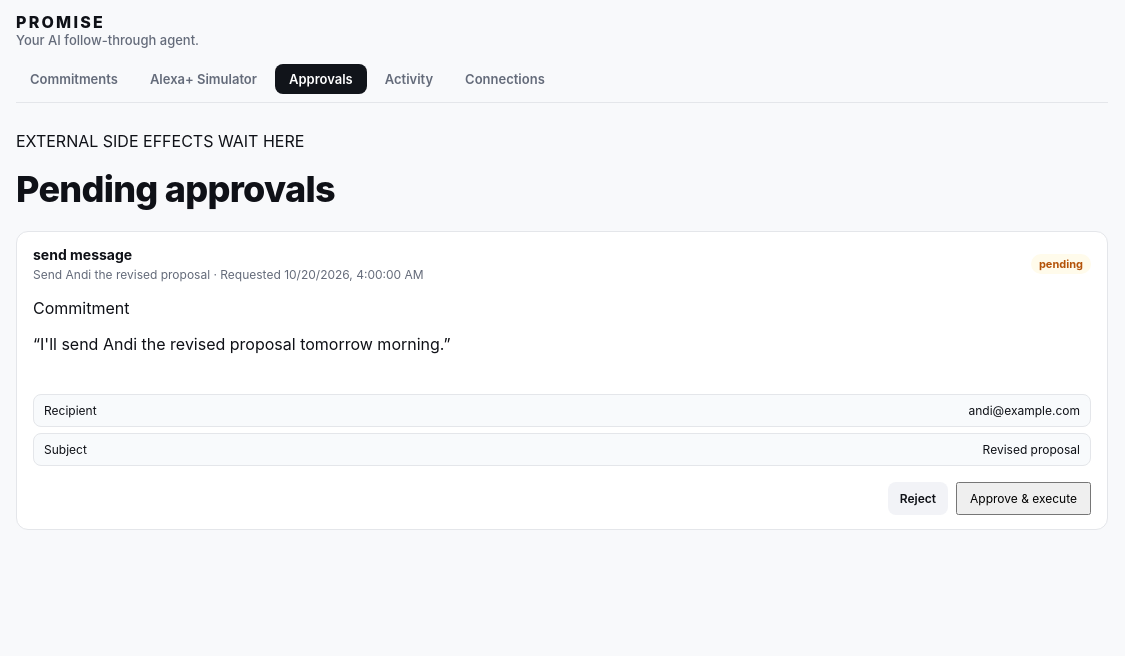
ApprovalsPage – conflict (HTTP 409) › shows conflict notice when decideApproval returns a 409 error
Click the button with test id "btn-approve": [1024, 498] box [956,482,1091,515]
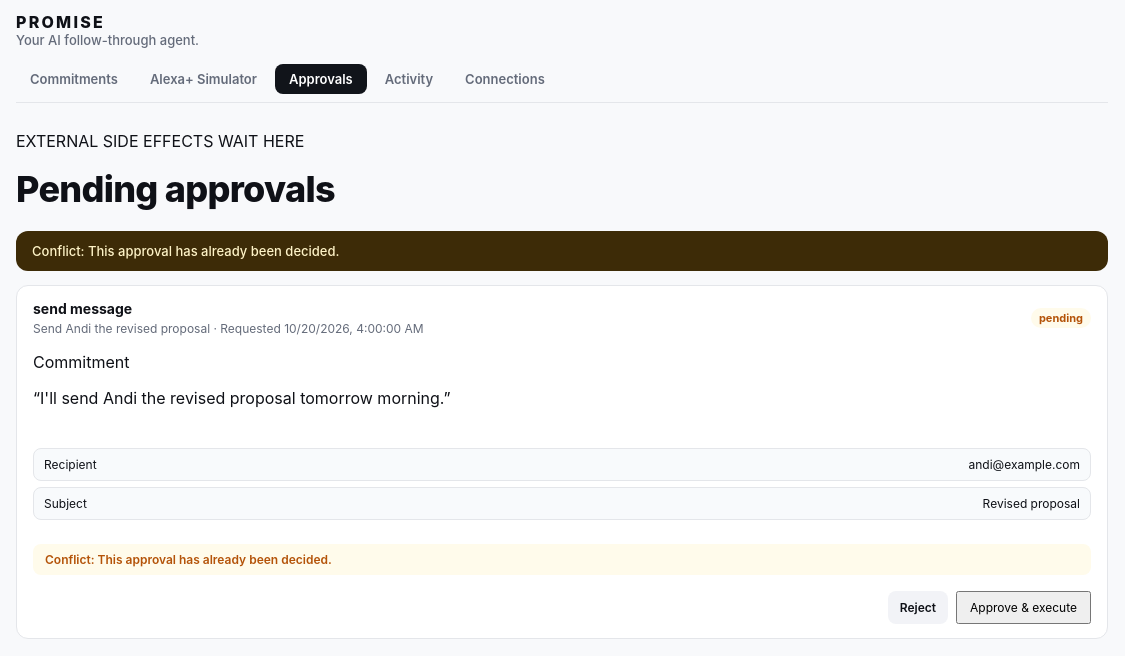
Expected: the message with test id "page-notice" reads "Conflict: This approval has already been decided.", [32,243,340,259]
